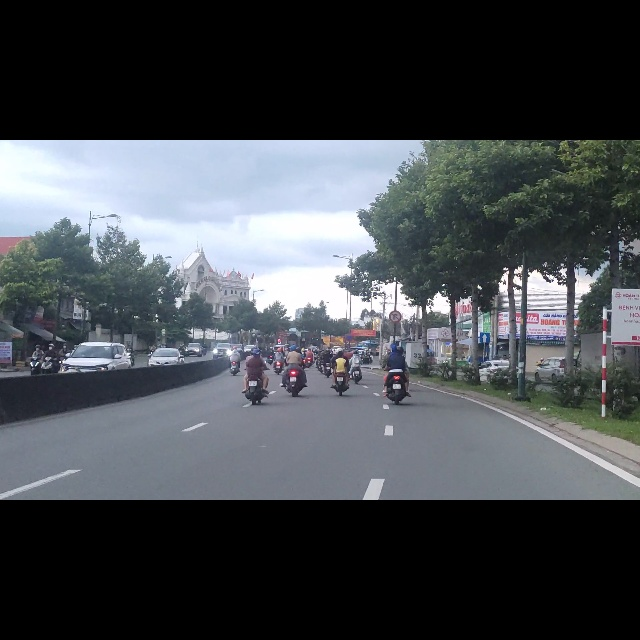bien_cam: (389, 303, 402, 326), (480, 341, 490, 361)
